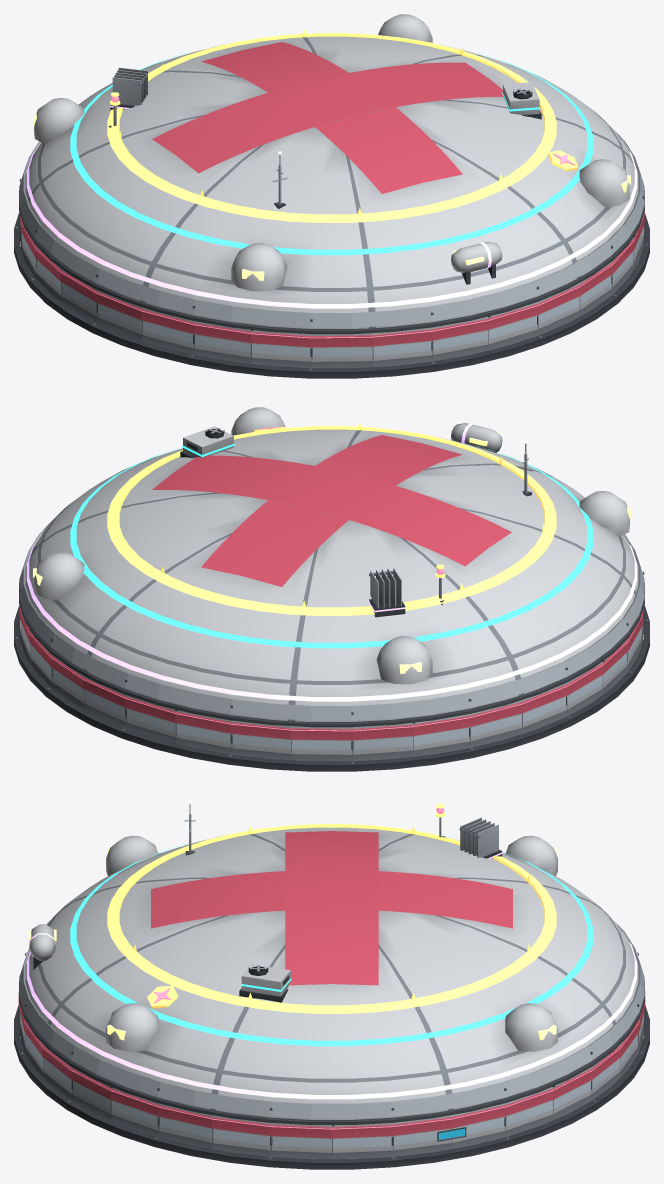
Rendered from medical_xl.glb.
3 renders of one model, top to bottom at view 1: azimuth 30°, elevation 25°; view 2: azimuth 150°, elevation 25°; view 3: azimuth 270°, elevation 25°, orthographic.
Visible parts, largest first — view 1: Roof, L5, Base, L3, L4, Wall_21, Wall_20, Wall_22, Wall_19, Wall_23, Wall_18, Wall_24 (+16 smaller); view 2: Roof, L5, Base, L3, L4, Wall_10, Wall_11, Wall_09, Wall_12, Wall_08, Wall_13, Wall_07 (+17 smaller); view 3: Roof, L5, Base, L3, L4, Wall_00, Wall_31, Wall_30, Wall_01, Wall_29, Wall_02, Wall_28 (+17 smaller).
Part boxes in pixels (x1,y1,x2,y2): Roof: [19, 14, 644, 334]; L5: [107, 29, 578, 222]; Base: [14, 212, 649, 378]; L3: [70, 52, 593, 255]; L4: [110, 67, 502, 284]; Wall_21: [311, 333, 372, 368]; Wall_20: [251, 329, 311, 368]; Wall_22: [372, 327, 432, 367]; Wall_19: [193, 321, 251, 363]; Wall_23: [432, 316, 488, 361]; Wall_18: [141, 307, 193, 354]; Wall_24: [488, 302, 538, 350]; Roof: [19, 407, 644, 727]; L5: [107, 422, 556, 615]; Base: [14, 605, 649, 771]; L3: [70, 426, 593, 648]; L4: [369, 422, 502, 617]; Wall_10: [291, 726, 352, 761]; Wall_11: [352, 722, 412, 761]; Wall_09: [231, 720, 291, 760]; Wall_12: [412, 714, 470, 756]; Wall_08: [175, 709, 231, 754]; Wall_13: [470, 700, 522, 747]; Wall_07: [125, 695, 175, 743]; Roof: [19, 827, 644, 1124]; L5: [107, 803, 556, 1013]; Base: [14, 1005, 649, 1169]; L3: [70, 843, 593, 1046]; L4: [28, 817, 502, 969]; Wall_00: [332, 1123, 392, 1159]; Wall_31: [271, 1123, 331, 1159]; Wall_30: [212, 1115, 270, 1156]; Wall_01: [393, 1115, 451, 1156]; Wall_29: [158, 1103, 212, 1149]; Wall_02: [451, 1103, 505, 1149]; Wall_28: [110, 1085, 158, 1137].
Size of the model in its own units: 21.35 by 6.46 by 21.35.
